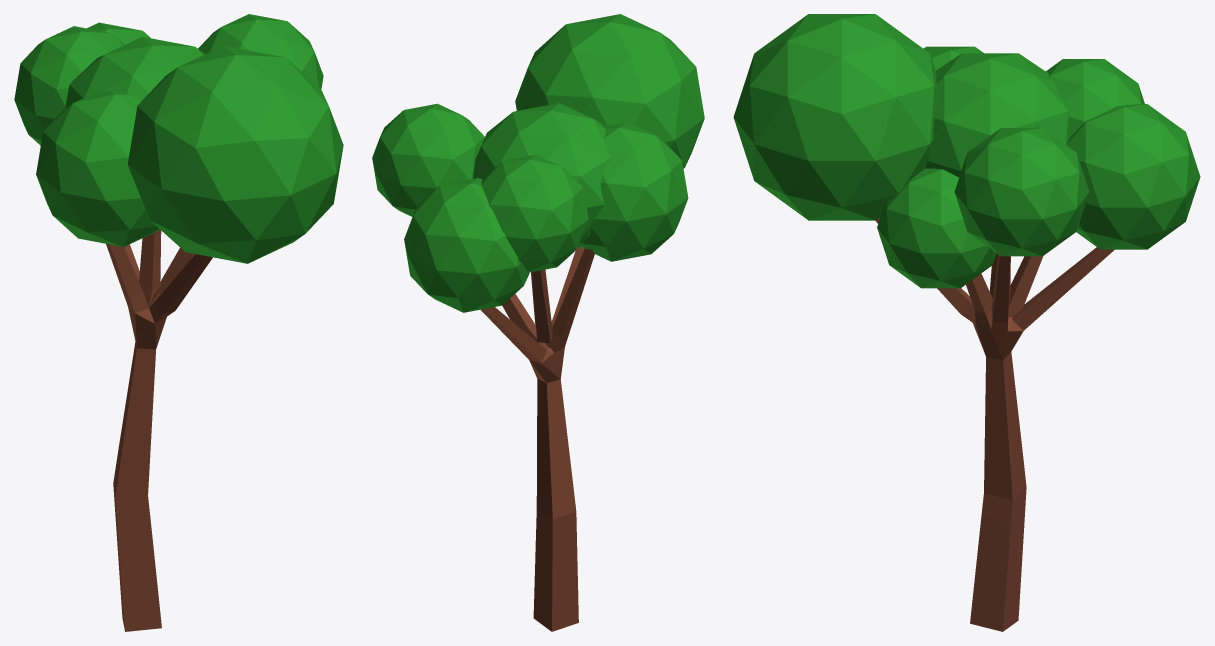
The model's file is tree01.fbx.
3 views of the same model, side by side, from view 1: azimuth 30°, elevation 25°; view 2: azimuth 150°, elevation 25°; view 3: azimuth 270°, elevation 25° (orthographic). The views are drawn at different scales.
Parts seen in each view (by area): view 1: 立方体.001; view 2: 立方体.001; view 3: 立方体.001.
Part boxes in pixels (box(x1,y1,x2,y2)): 立方体.001: box(14, 14, 343, 631); 立方体.001: box(372, 14, 704, 631); 立方体.001: box(733, 14, 1200, 631).
Size of the model in its own units: 2367 by 4686 by 3235.
